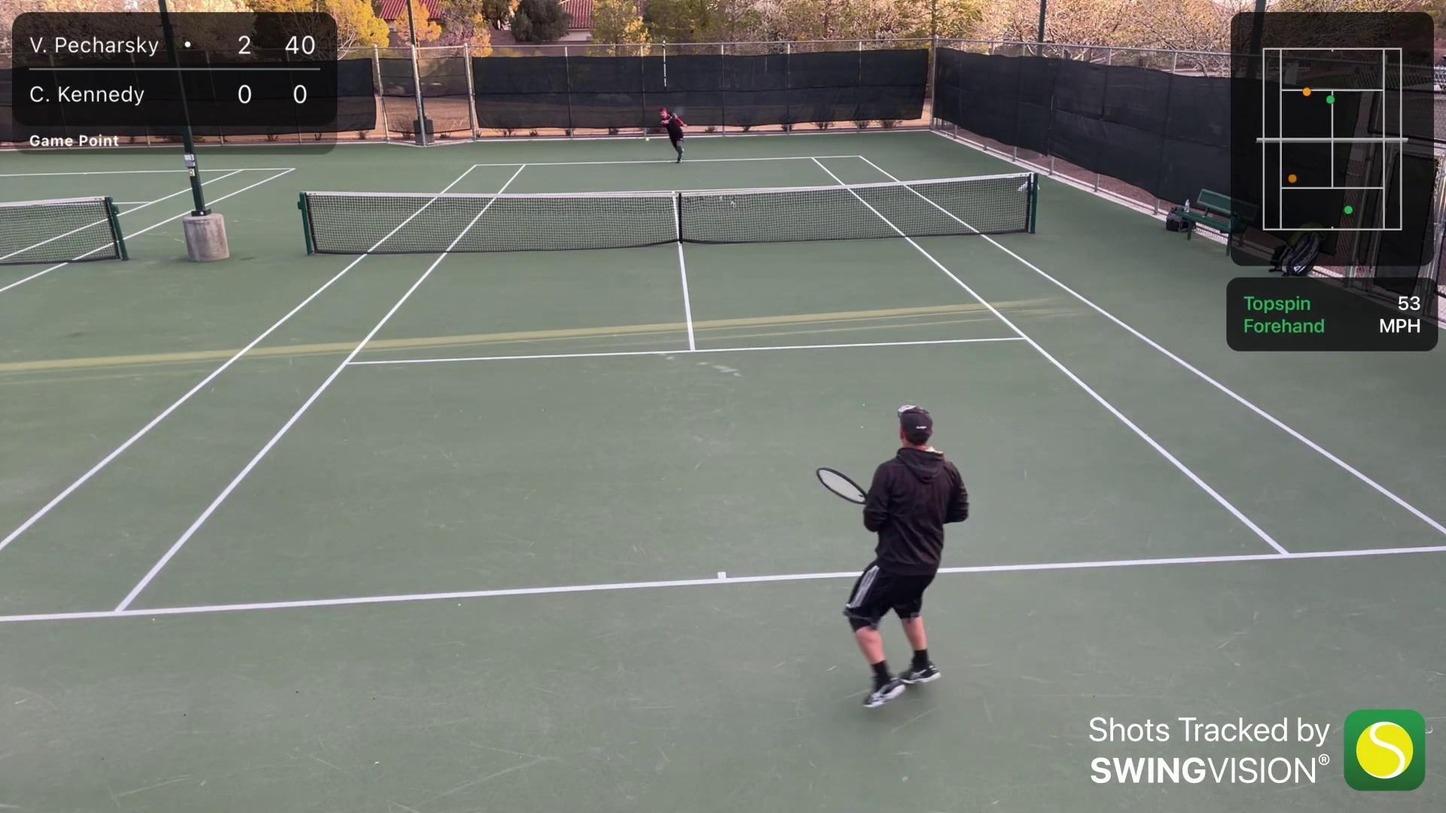ball: (644, 136, 651, 142)
